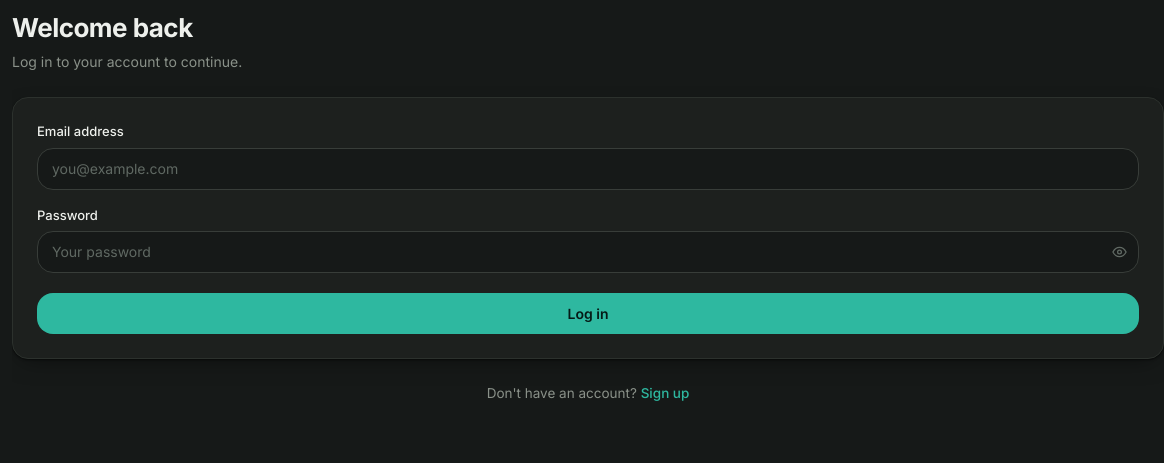
Test: LoginForm › shows inline validation errors when submitted empty
Click the button "Log in" at (588, 314), box [37, 293, 1139, 334]
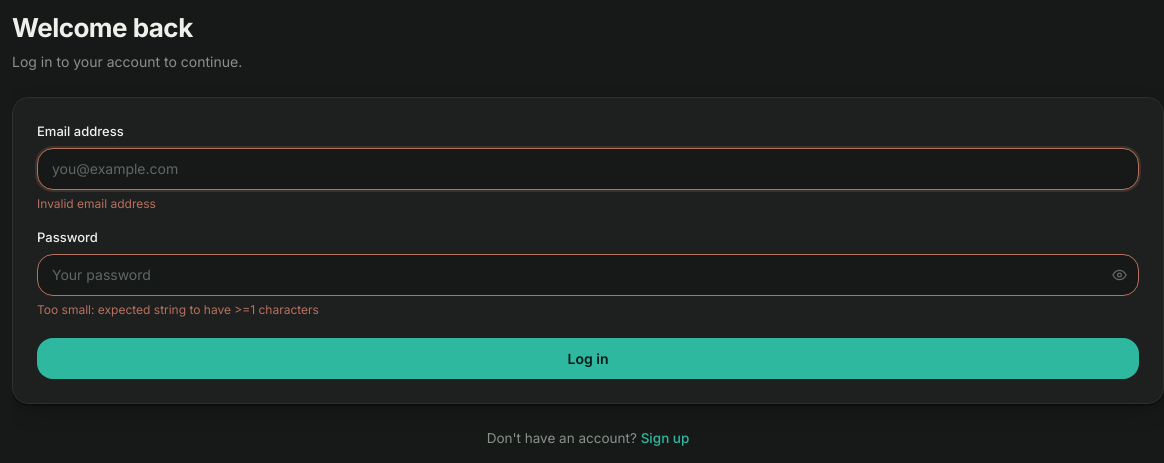
expect the text "Invalid email address" is shown: met, box [37, 196, 156, 211]
